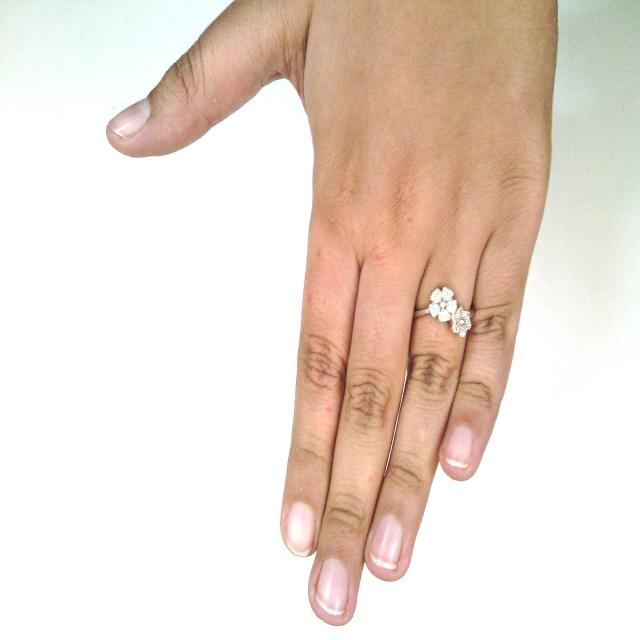Fingernail: (316, 559, 347, 614), (368, 516, 402, 566), (286, 501, 315, 555), (109, 99, 149, 138), (445, 426, 472, 465)
